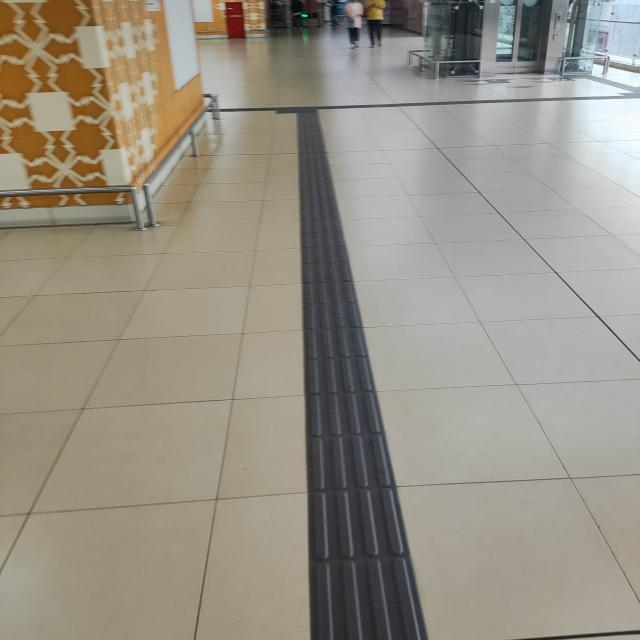lurus: (272, 138, 422, 640)
